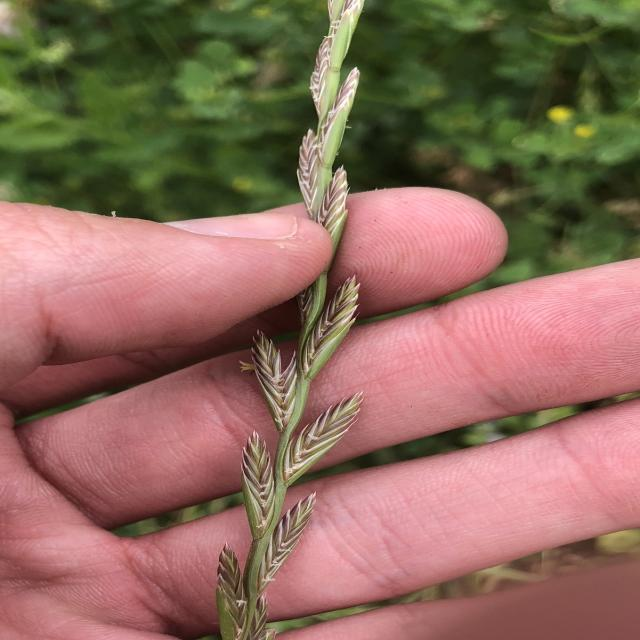Lolium: (208, 2, 371, 638)
